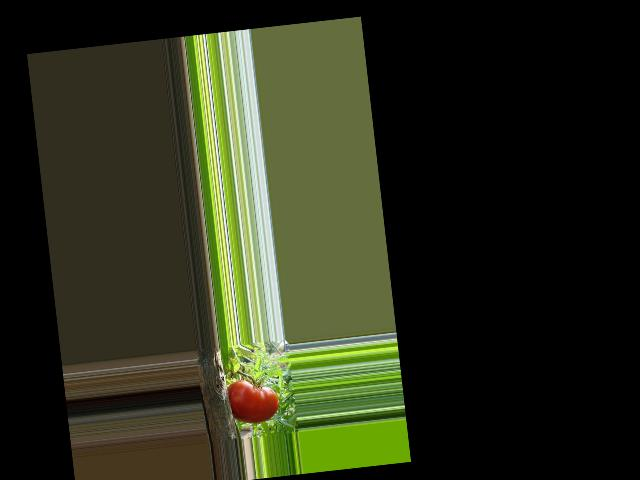tomato: (226, 375, 281, 425)
